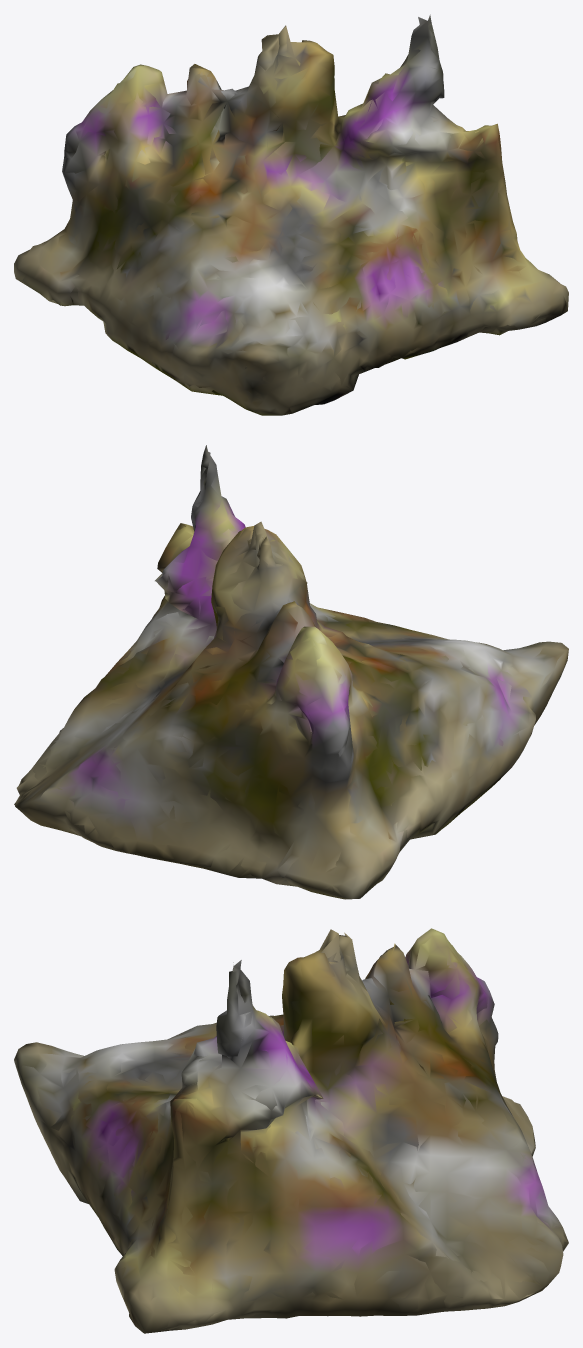
Rendered from yuri_conyard.glb.
The picture shows the model from 3 angles, top to bottom: view 1: azimuth 30°, elevation 25°; view 2: azimuth 150°, elevation 25°; view 3: azimuth 270°, elevation 25°; orthographic projection. The views are drawn at different scales.
Visible parts, largest first — view 1: yuri_conyard; view 2: yuri_conyard; view 3: yuri_conyard.
Part boxes in pixels (x1=…): yuri_conyard: x1=14, y1=14, x2=568, y2=415; yuri_conyard: x1=14, y1=445, x2=568, y2=899; yuri_conyard: x1=14, y1=928, x2=568, y2=1333.
Size of the model in its own units: 1.75 by 1.27 by 1.98.
